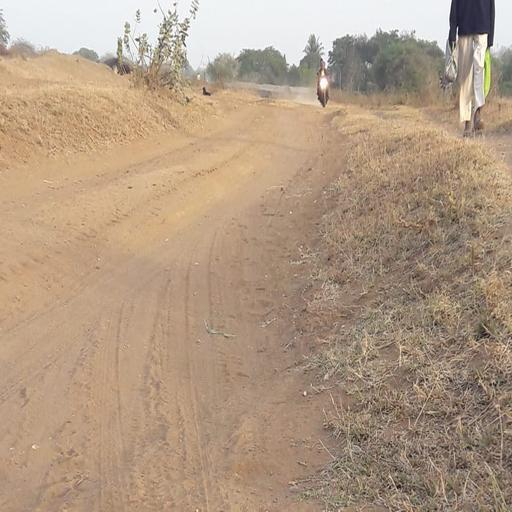vehicle_track: (4, 104, 346, 512)
